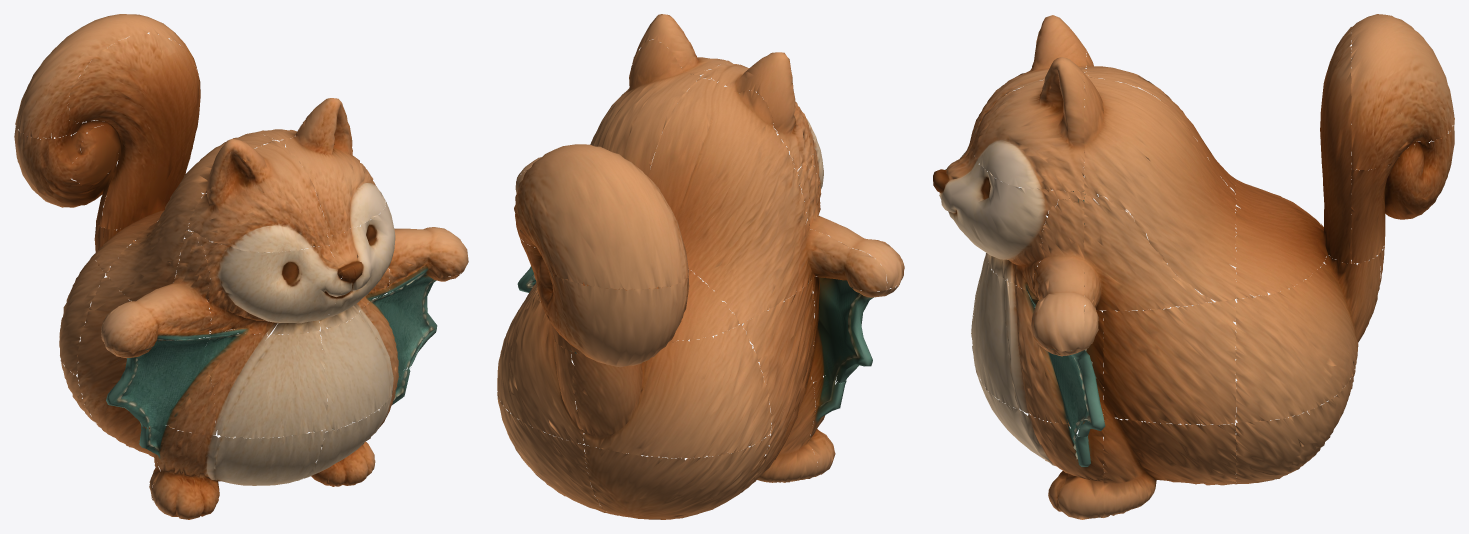
File: game.glb
3 views of the same model, side by side, from view 1: azimuth 30°, elevation 25°; view 2: azimuth 150°, elevation 25°; view 3: azimuth 270°, elevation 25° (orthographic). The views are drawn at different scales.
Visible parts, largest first — view 1: geometry_0; view 2: geometry_0; view 3: geometry_0.
Part boxes in pixels (x1,y1,x2,y2): geometry_0: (14, 14, 468, 519); geometry_0: (497, 14, 904, 519); geometry_0: (933, 14, 1454, 519).
Size of the model in its own units: 0.9502 by 1 by 1.07.
Materials: 1 (1 with a texture image).
